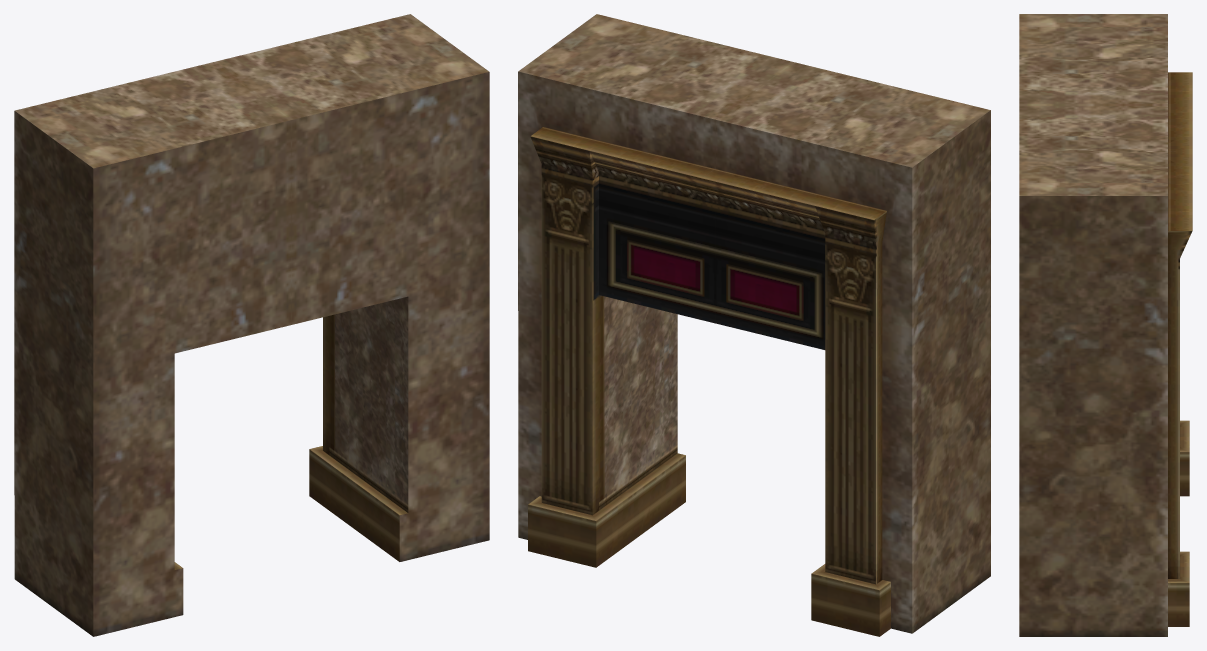
Rendered from furni_0200324_01.FBX.
3 views of the same model, side by side, from view 1: azimuth 30°, elevation 25°; view 2: azimuth 150°, elevation 25°; view 3: azimuth 270°, elevation 25° (orthographic). The views are drawn at different scales.
Visible parts, largest first — view 1: furni_0200324_01; view 2: furni_0200324_01; view 3: furni_0200324_01.
Part boxes in pixels (<box>): furni_0200324_01: <box>14,14,489,636</box>; furni_0200324_01: <box>518,14,990,636</box>; furni_0200324_01: <box>1019,14,1192,636</box>.
Bounding box in the file's own units: 160 × 181 × 64.4.
